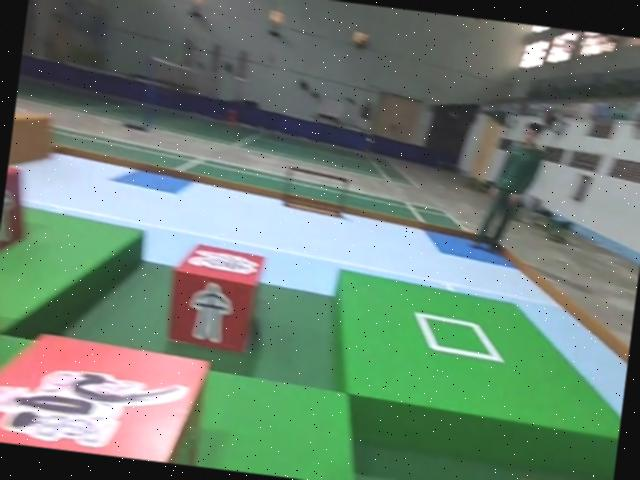R1: (0, 324, 224, 468)
R2 Fake: (156, 240, 267, 355)
